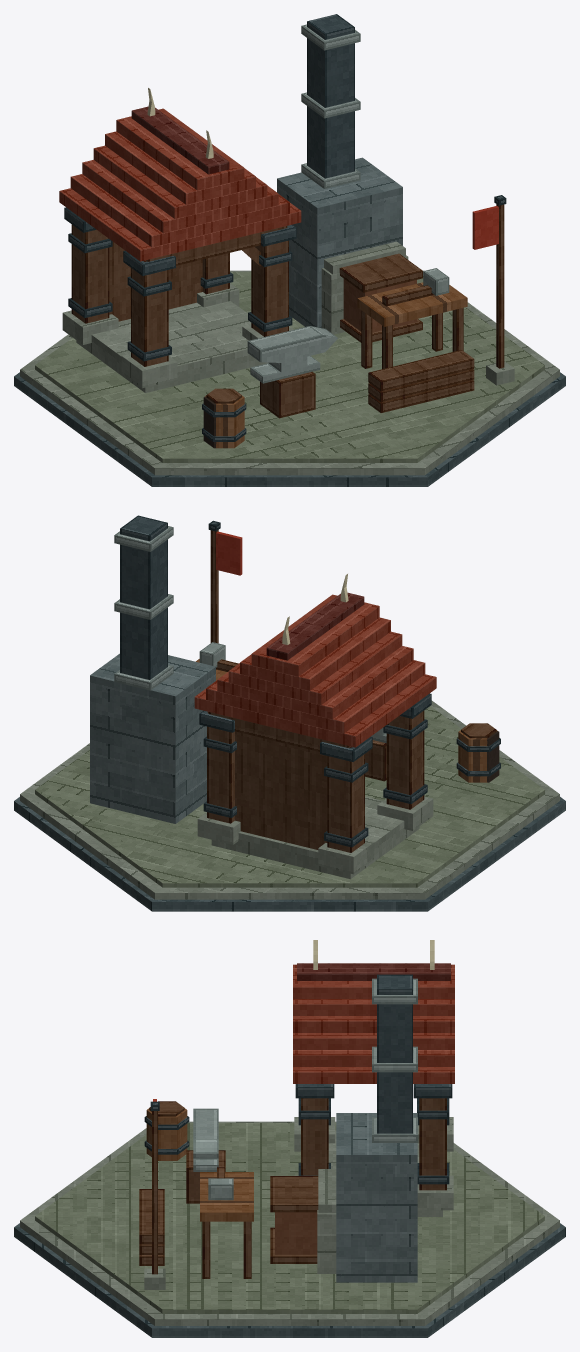
The model's file is orc_workshop_hex_v1.glb.
The picture shows the model from 3 angles, top to bottom: view 1: azimuth 30°, elevation 25°; view 2: azimuth 150°, elevation 25°; view 3: azimuth 270°, elevation 25°; orthographic projection.
Visible parts, largest first — view 1: Orc_Workshop_Hex_V1_Foundation, Orc_Workshop_Hex_V1_Focus, Orc_Workshop_Hex_V1_Roofs, Orc_Workshop_Hex_V1_Details, Orc_Workshop_Hex_V1_Structure, Orc_Workshop_Hex_V1_Hall, Orc_Workshop_Hex_V1_Faction; view 2: Orc_Workshop_Hex_V1_Foundation, Orc_Workshop_Hex_V1_Focus, Orc_Workshop_Hex_V1_Roofs, Orc_Workshop_Hex_V1_Structure, Orc_Workshop_Hex_V1_Hall, Orc_Workshop_Hex_V1_Details, Orc_Workshop_Hex_V1_Faction; view 3: Orc_Workshop_Hex_V1_Foundation, Orc_Workshop_Hex_V1_Focus, Orc_Workshop_Hex_V1_Roofs, Orc_Workshop_Hex_V1_Details, Orc_Workshop_Hex_V1_Structure.
Boxes of the visible parts, x1=… form: Orc_Workshop_Hex_V1_Foundation: x1=14, y1=270, x2=565, y2=486; Orc_Workshop_Hex_V1_Focus: x1=247, y1=14, x2=422, y2=418; Orc_Workshop_Hex_V1_Roofs: x1=59, y1=106, x2=301, y2=261; Orc_Workshop_Hex_V1_Details: x1=68, y1=24, x2=514, y2=448; Orc_Workshop_Hex_V1_Structure: x1=62, y1=207, x2=408, y2=388; Orc_Workshop_Hex_V1_Hall: x1=76, y1=241, x2=267, y2=392; Orc_Workshop_Hex_V1_Faction: x1=472, y1=206, x2=498, y2=249; Orc_Workshop_Hex_V1_Foundation: x1=14, y1=700, x2=565, y2=911; Orc_Workshop_Hex_V1_Focus: x1=90, y1=515, x2=386, y2=823; Orc_Workshop_Hex_V1_Roofs: x1=194, y1=592, x2=436, y2=747; Orc_Workshop_Hex_V1_Structure: x1=197, y1=693, x2=433, y2=874; Orc_Workshop_Hex_V1_Hall: x1=211, y1=731, x2=419, y2=879; Orc_Workshop_Hex_V1_Details: x1=114, y1=520, x2=500, y2=847; Orc_Workshop_Hex_V1_Faction: x1=216, y1=531, x2=242, y2=575; Orc_Workshop_Hex_V1_Foundation: x1=14, y1=1121, x2=565, y2=1337; Orc_Workshop_Hex_V1_Focus: x1=186, y1=974, x2=417, y2=1282; Orc_Workshop_Hex_V1_Roofs: x1=293, y1=963, x2=454, y2=1083; Orc_Workshop_Hex_V1_Details: x1=139, y1=940, x2=449, y2=1289; Orc_Workshop_Hex_V1_Structure: x1=294, y1=1084, x2=453, y2=1273.
Size of the model in its own units: 1.59 by 1.11 by 1.84.
1 material, 1 textured.
